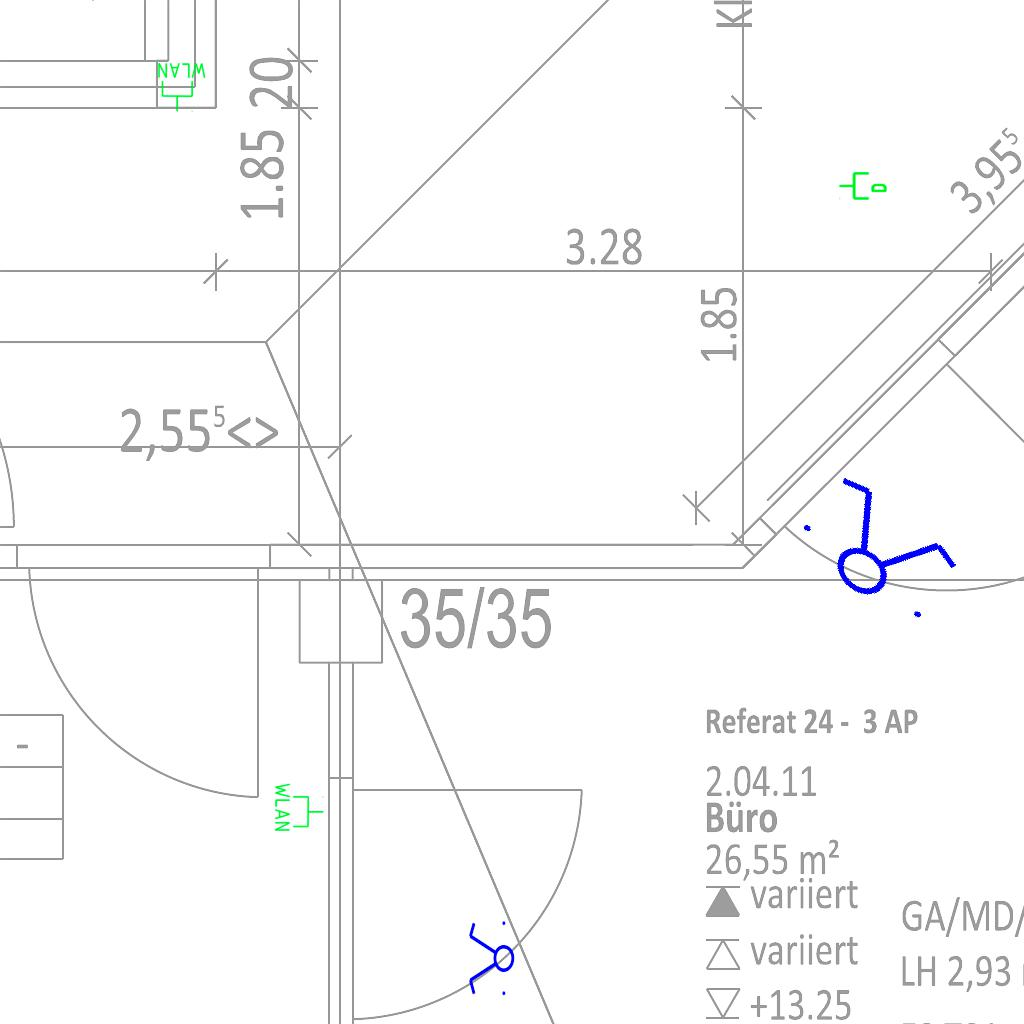Datenanschluss_einfach: (838, 168, 888, 202)
Serienschalter: (781, 460, 973, 640), (467, 917, 515, 1001)
WLAN: (273, 781, 325, 833), (156, 61, 208, 113)
